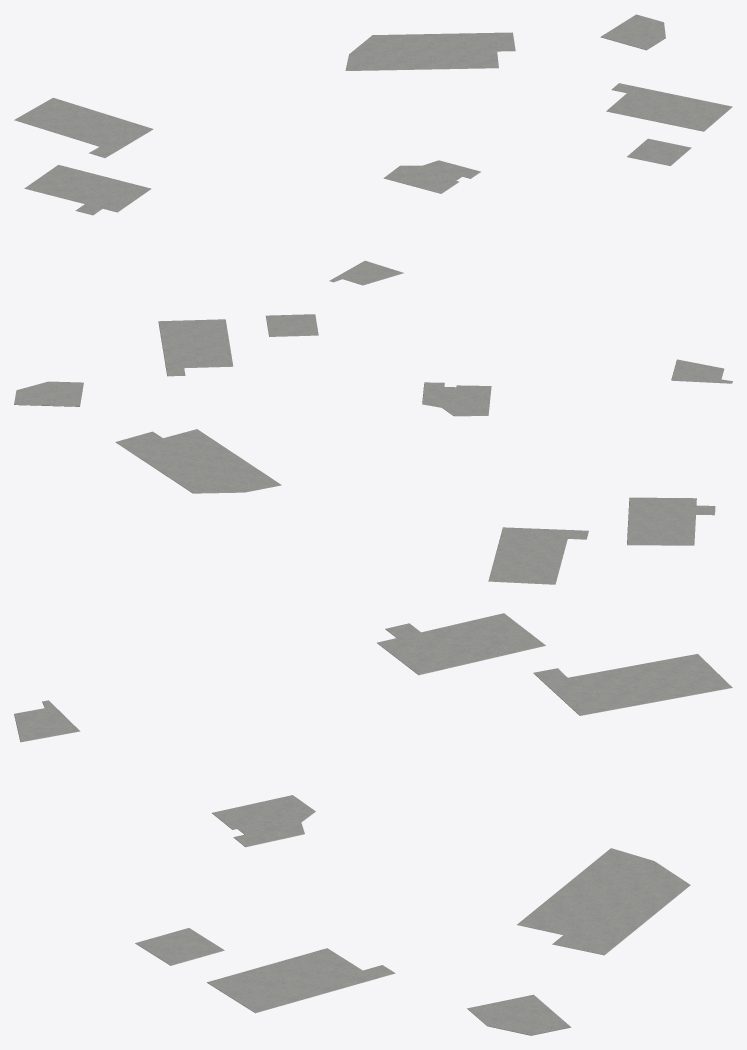
File: Austin_track_landmark_06.dae
3 renders of one model, top to bottom at view 1: azimuth 30°, elevation 25°; view 2: azimuth 150°, elevation 25°; view 3: azimuth 270°, elevation 25°, orthographic. The views are drawn at different scales.
Parts seen in each view (by area): view 1: Austin_track_landmark_06; view 2: Austin_track_landmark_06; view 3: Austin_track_landmark_06.
Part boxes in pixels (<box>): Austin_track_landmark_06: <box>14,14,732,285</box>; Austin_track_landmark_06: <box>14,314,732,584</box>; Austin_track_landmark_06: <box>14,613,732,1035</box>.
Bounding box in the file's own units: 45.78 × 32.92 × 0.0196.
1 material, 1 textured.
